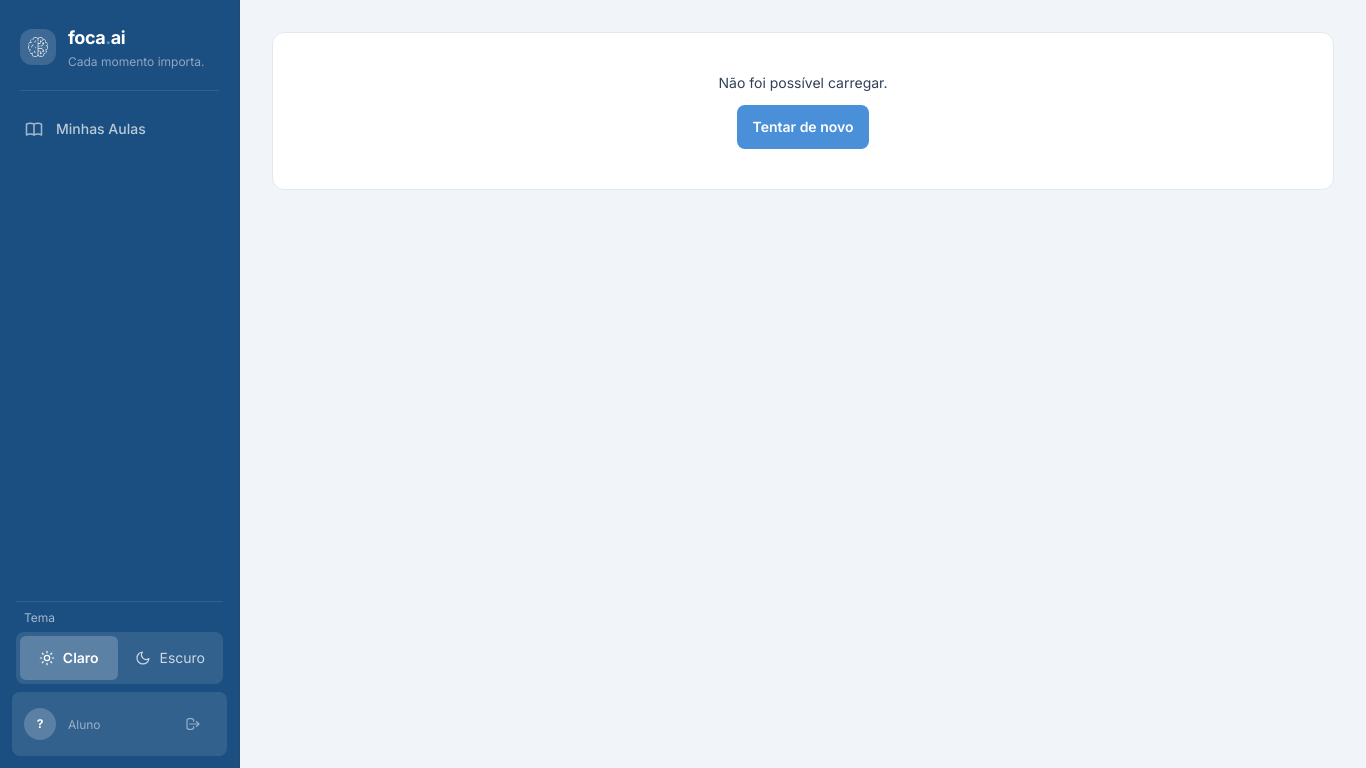
Test: Revisão da aula (#5) › CA10 (erro): backend fora do ar mostra "Não foi possível carregar." e "Tentar de novo" refaz
The width and height of the screenshot is (1366, 768).
Expected: the text "Não foi possível carregar." is shown, [718,74,888,91]
Click the button "Tentar de novo". click: click(803, 127)
box: [736,105,870,149]
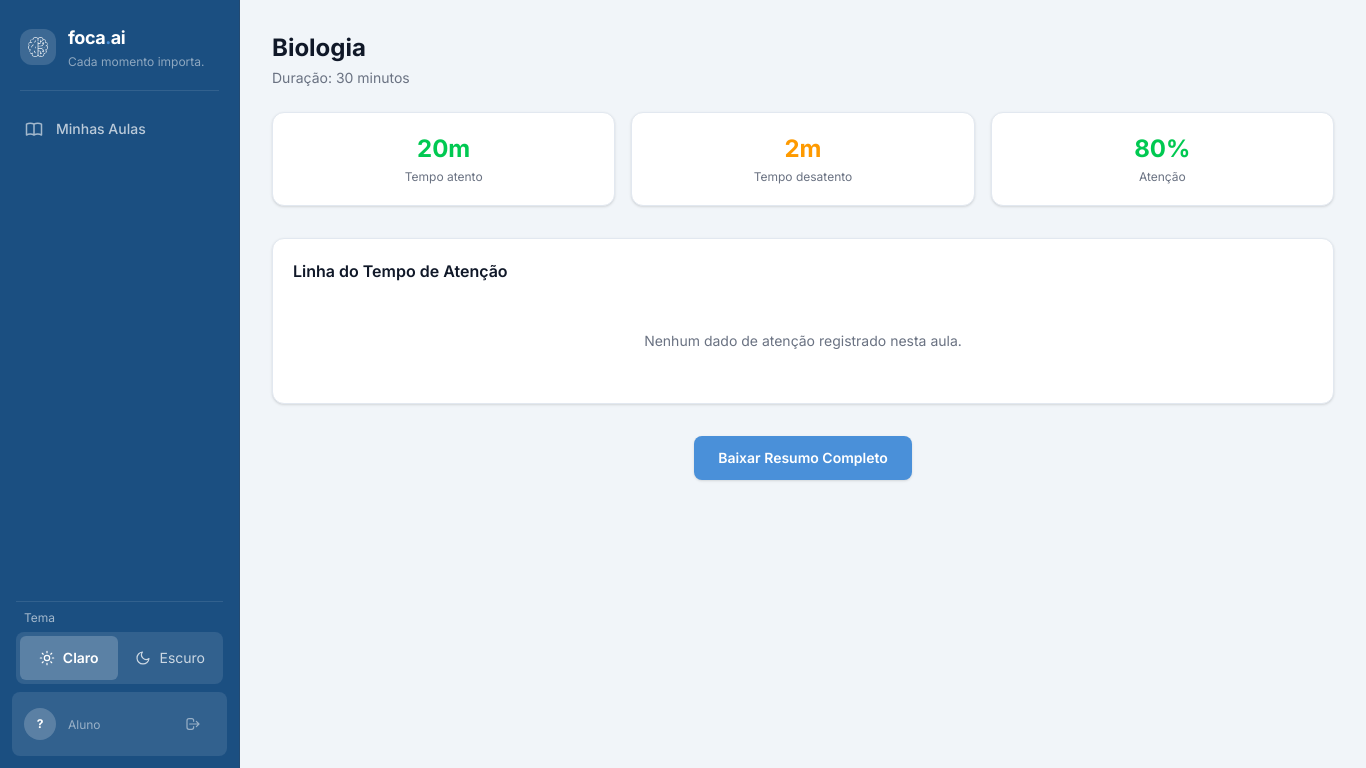
Expected: the text "Não foi possível carregar." is gone
Expected: the heading "Biologia" is shown, [272,33,366,62]
